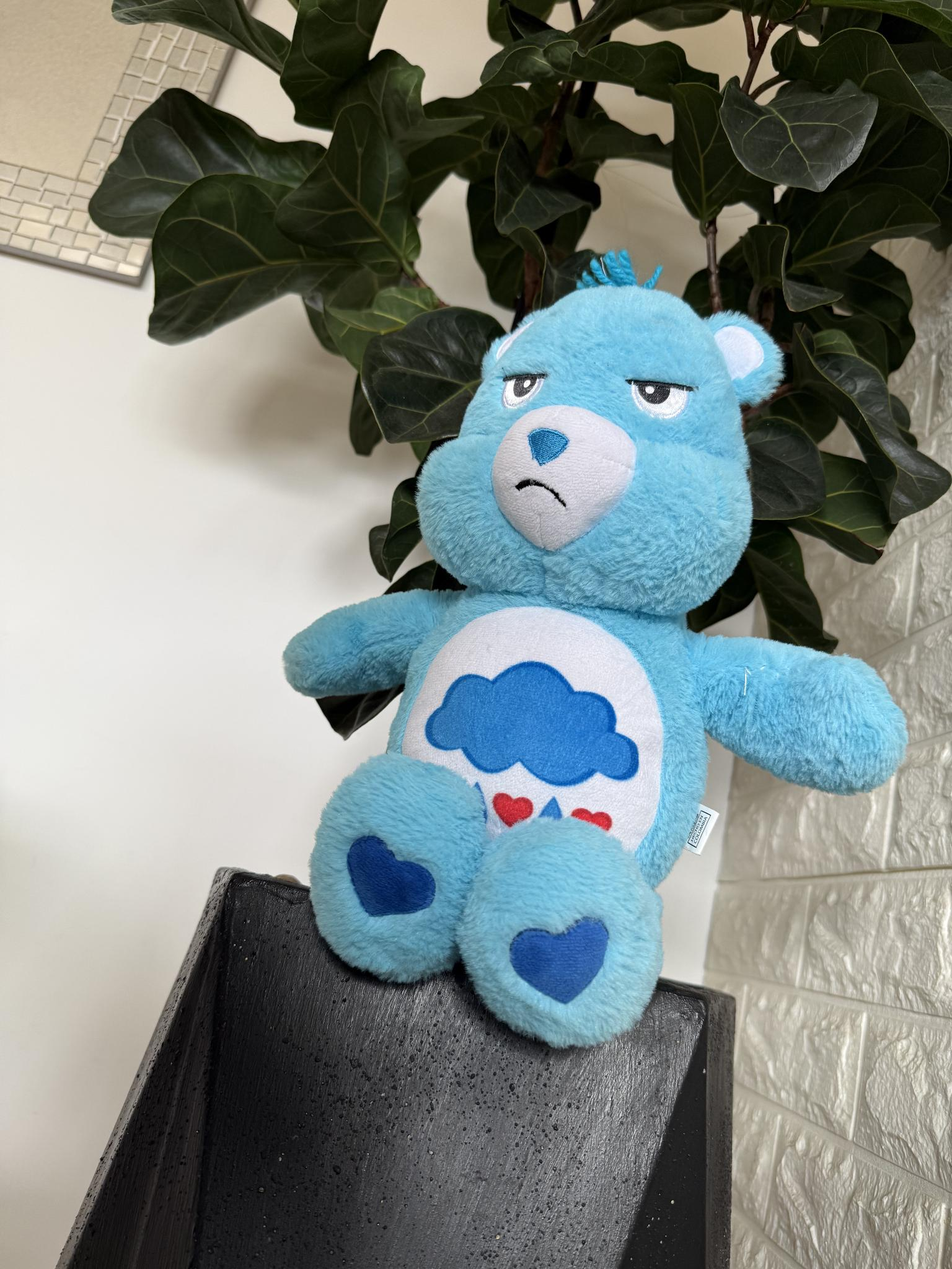peluche_Juan Jose: (378, 293, 767, 1042)
